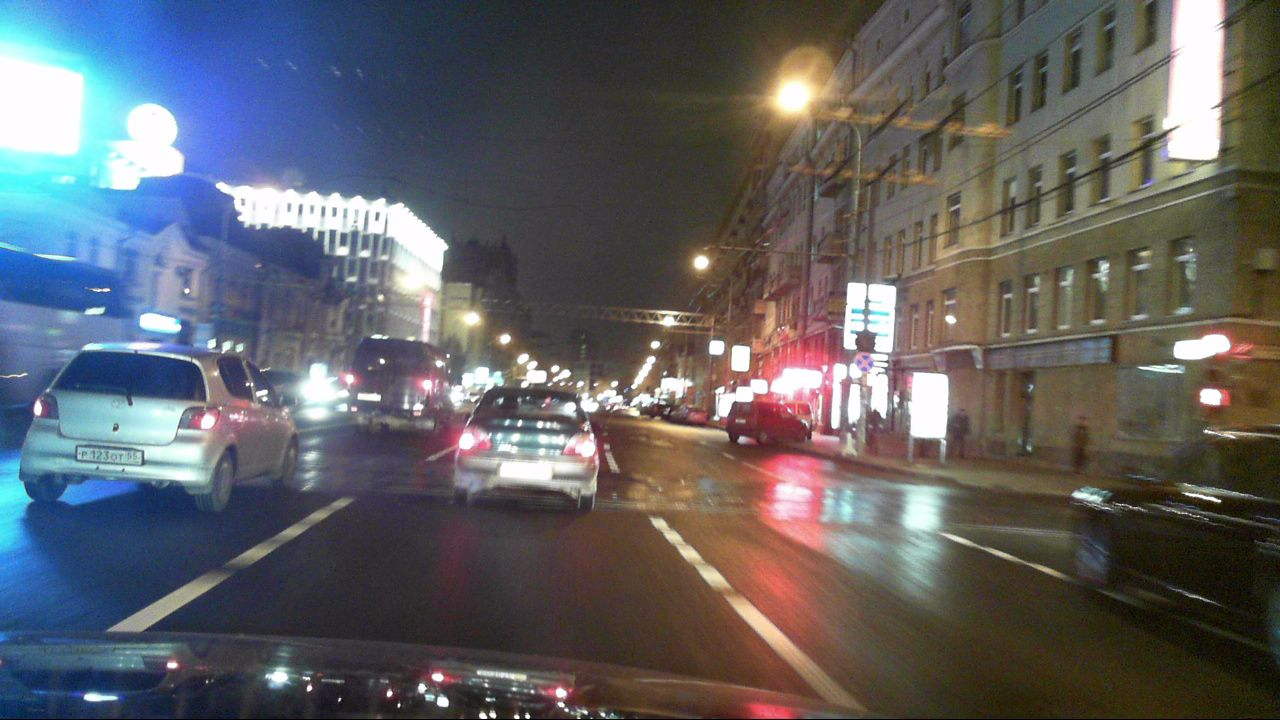No Parking: (855, 352, 874, 373)
